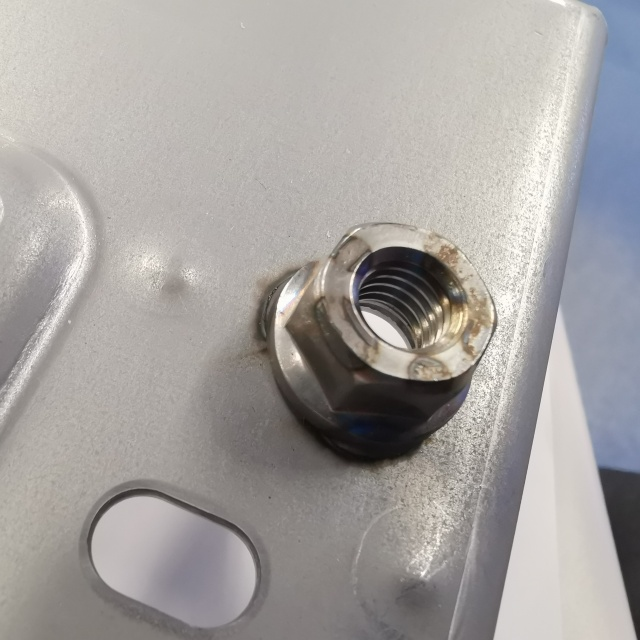dog: (258, 214, 503, 468)
